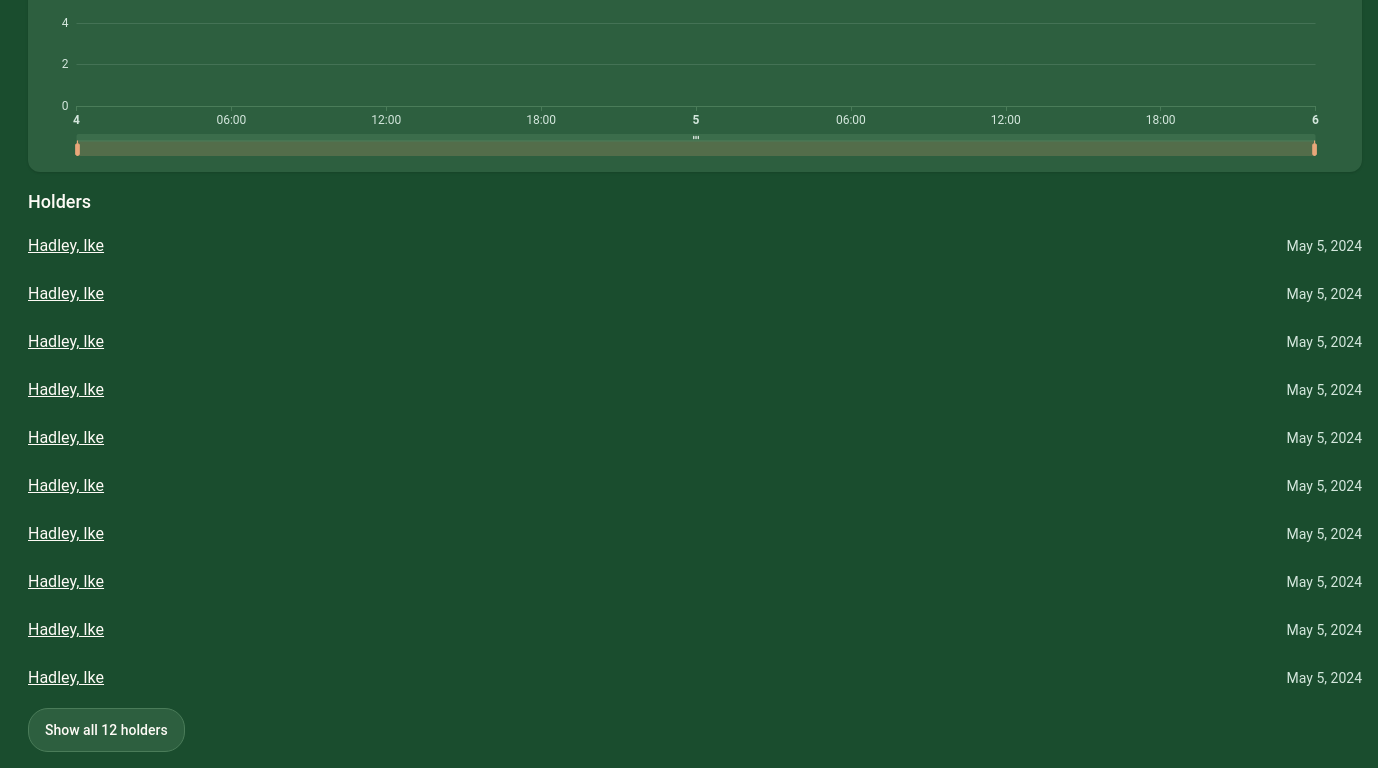
Test case: TrophyDetailPage › opens the next trophy with its holders collapsed again
This screenshot has width=1378, height=768.
(page scrolled)
Click the button "Show all 12 holders": [106, 730] box [28, 708, 185, 752]
(page scrolled)
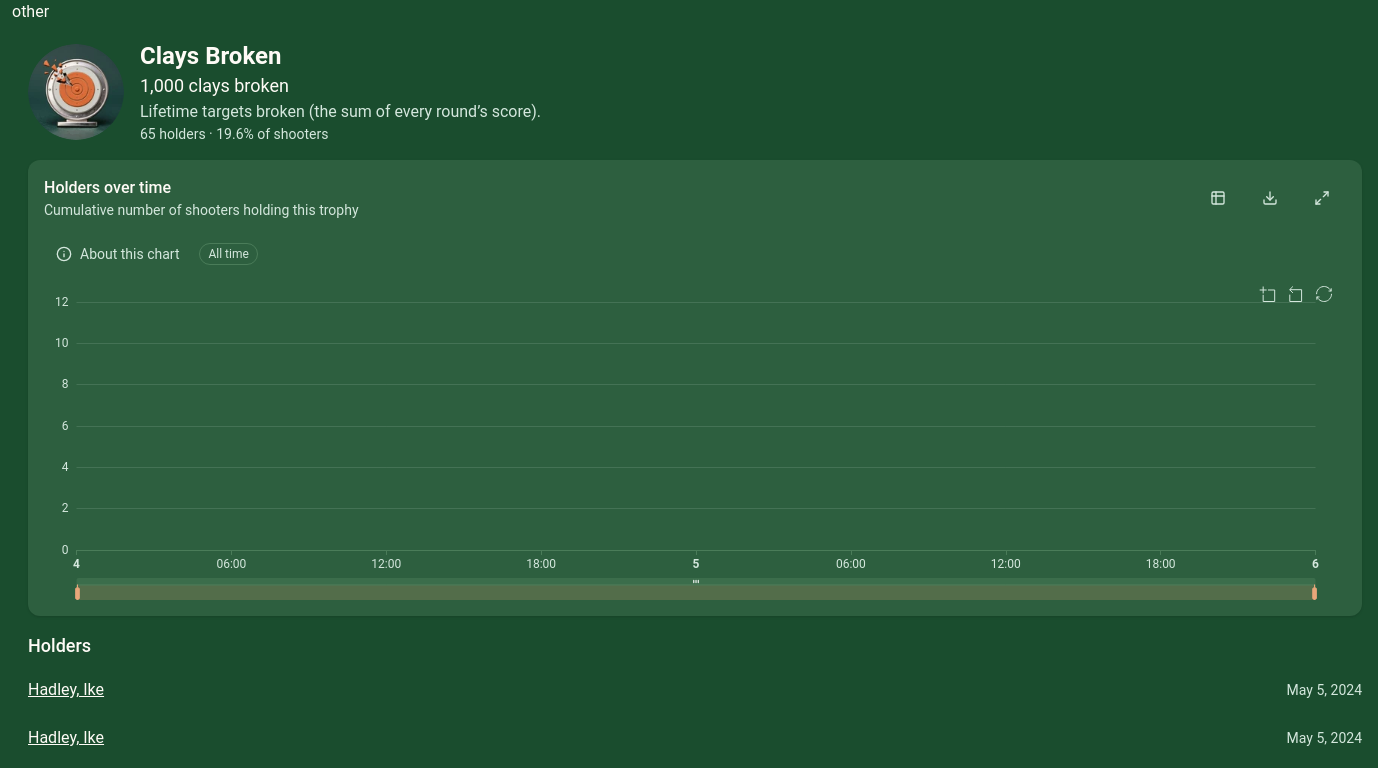
Result: the number of list items is 12
Click the link "other": [31, 12] box [12, 2, 49, 21]
(page scrolled)
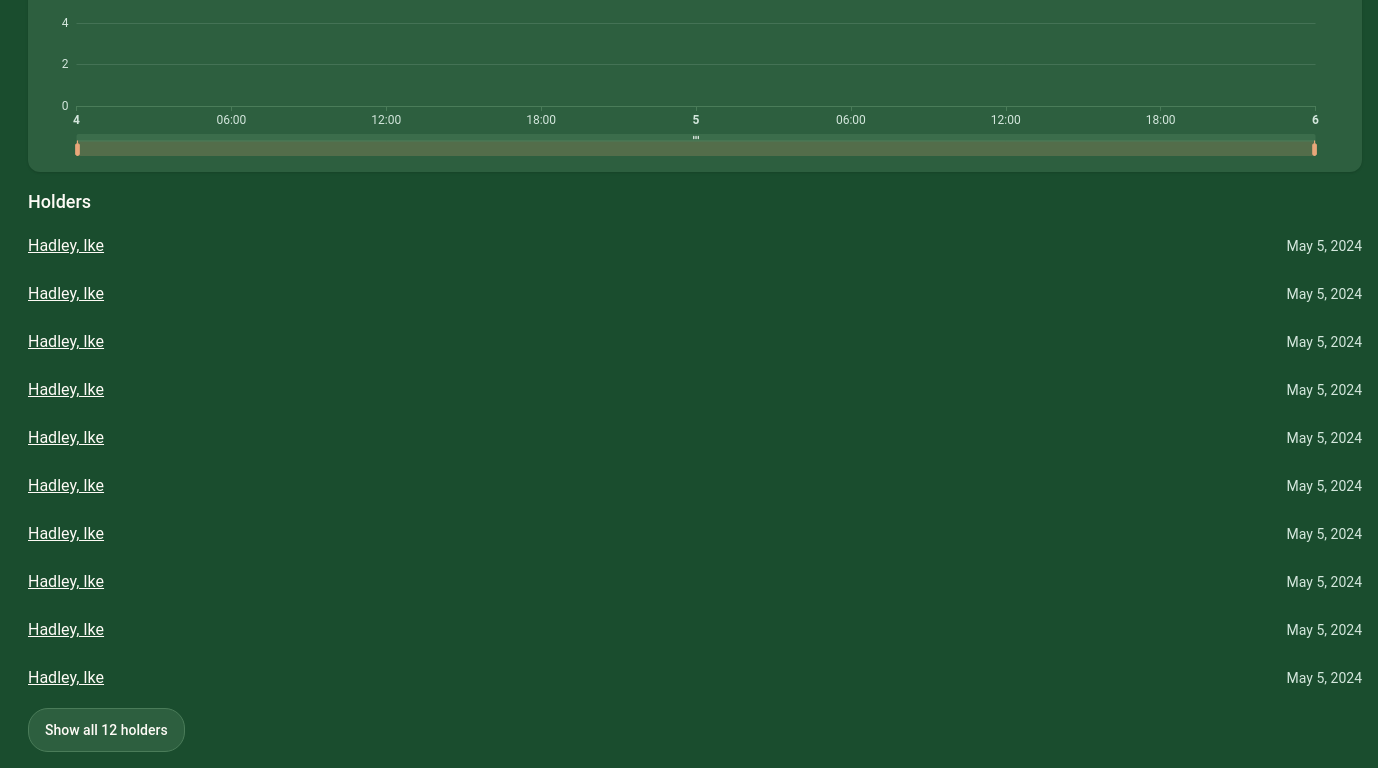
Result: the button "Show all 12 holders" is shown at [28, 708, 185, 752]
